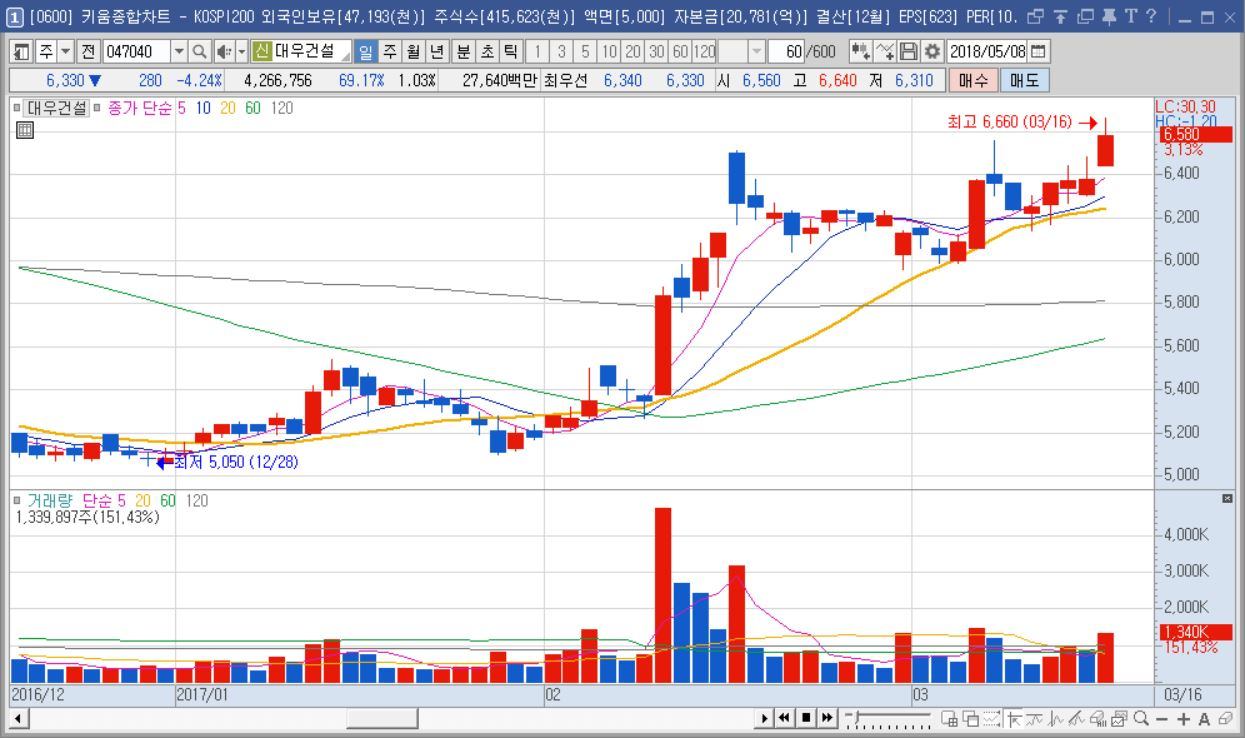up: (653, 108, 1116, 685)
